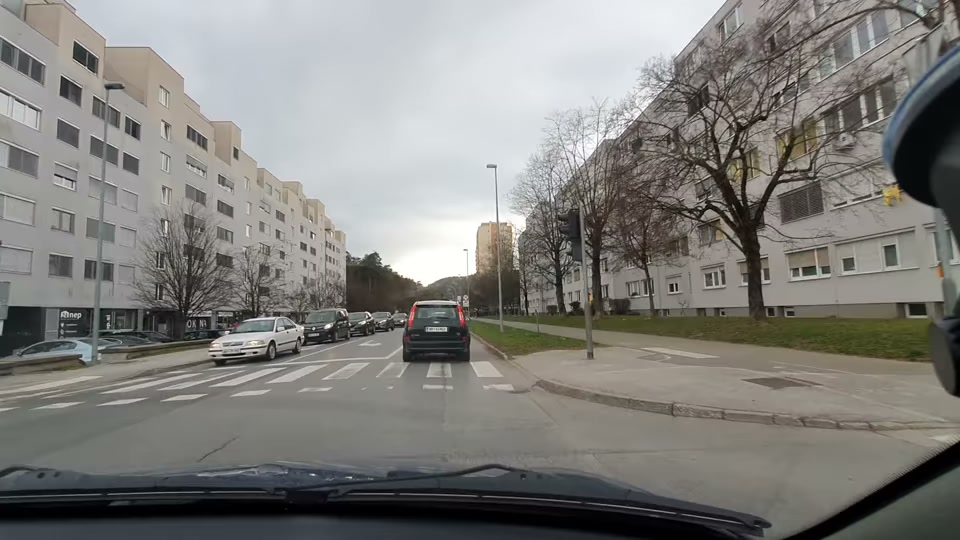vehicle_ign: (401, 297, 472, 369)
vehicle_s: (209, 310, 299, 369), (301, 303, 348, 344)
